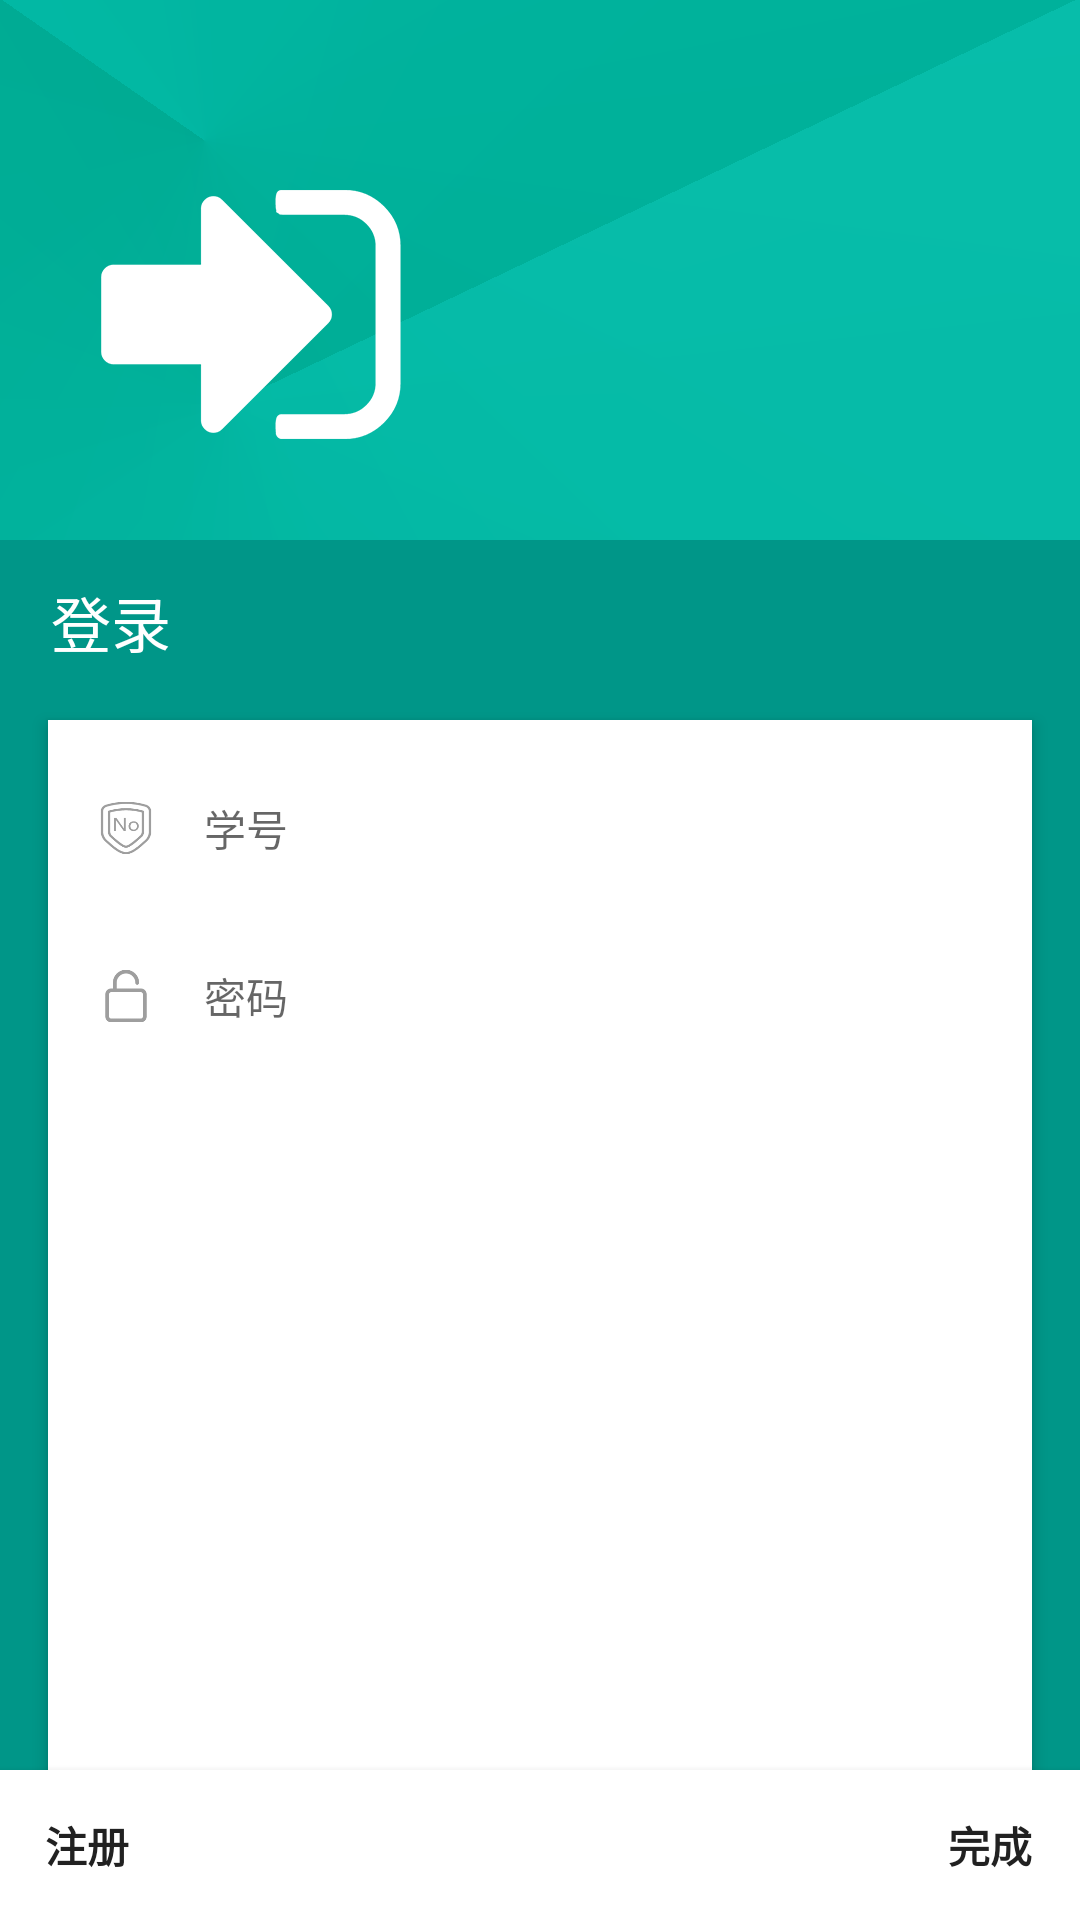

Point at icon controls on the screen. Image size 1080×1920, points as (x=x, y=y).
password: (x=126, y=996)
sno: (x=126, y=828)
